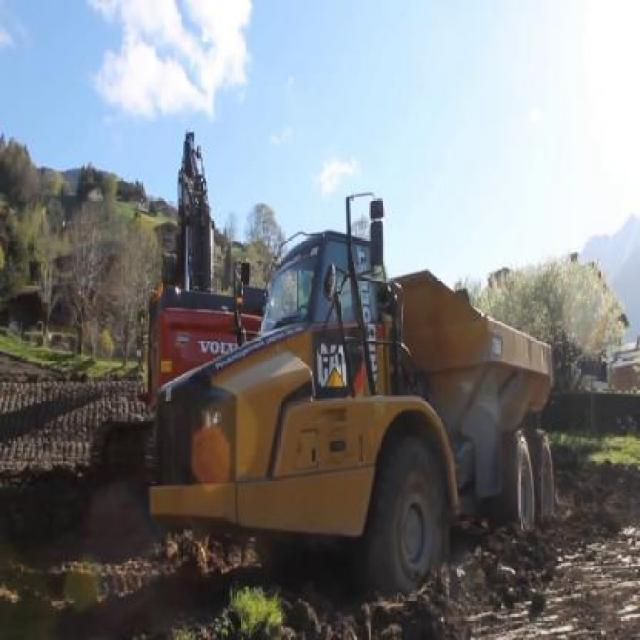Dump Truck: (148, 192, 555, 600)
Excavator: (88, 127, 267, 493)
